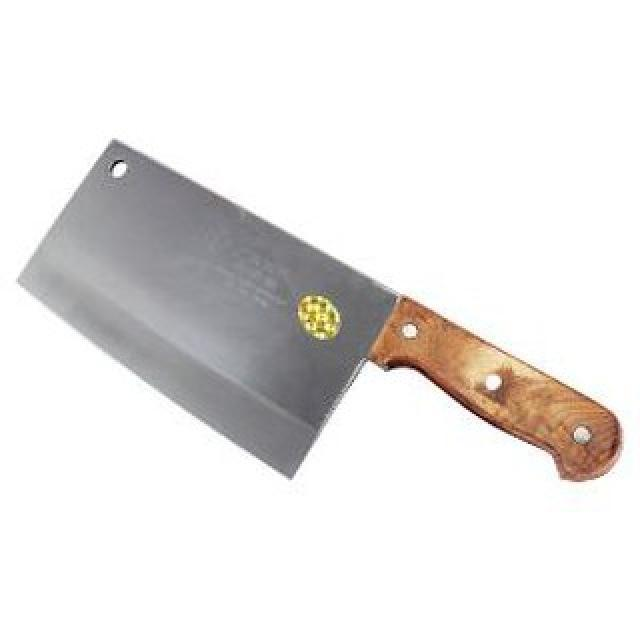Pisau: (10, 128, 632, 498)
